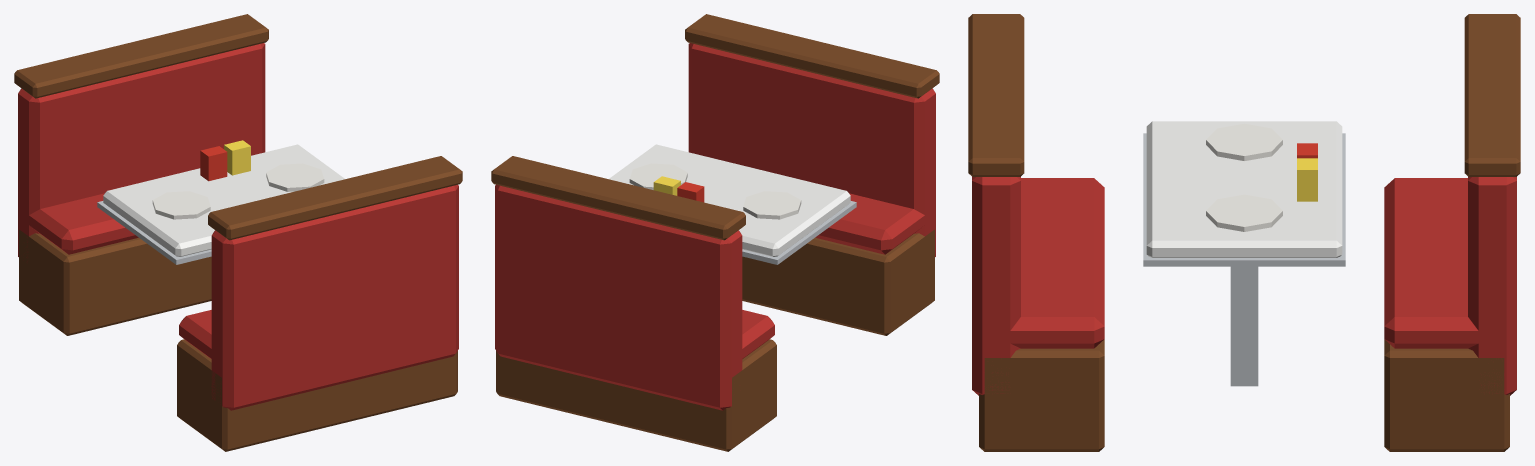
Rendered from DinerBooth.fbx.
3 renders of one model, left to right at view 1: azimuth 30°, elevation 25°; view 2: azimuth 150°, elevation 25°; view 3: azimuth 270°, elevation 25°, orthographic. The views are drawn at different scales.
Parts seen in each view (by area): view 1: DinerBooth; view 2: DinerBooth; view 3: DinerBooth.
Boxes of the visible parts, left/top/right/bottom form: DinerBooth: left=14, top=14, right=462, bottom=451; DinerBooth: left=491, top=14, right=939, bottom=451; DinerBooth: left=968, top=14, right=1520, bottom=451.
Bounding box in the file's own units: 5 × 4.65 × 7.9.
1 material, 1 textured.
